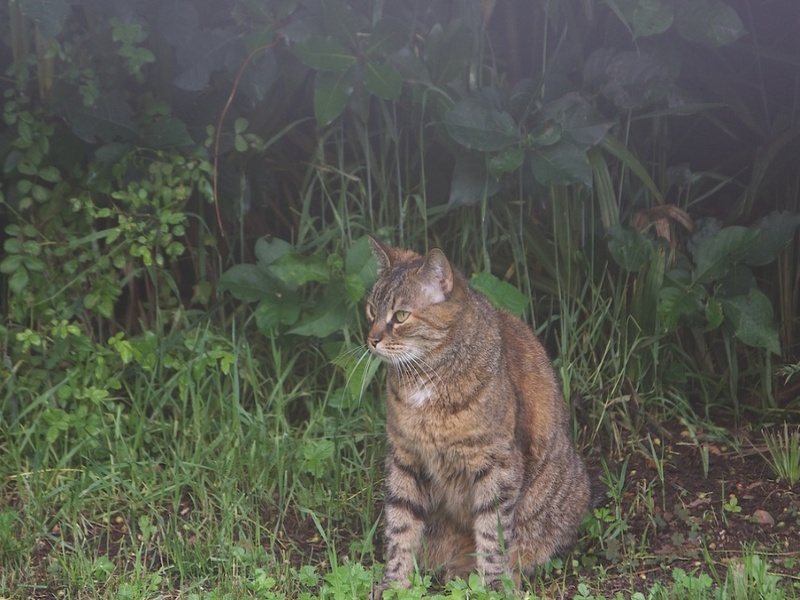cat: (359, 233, 595, 583)
